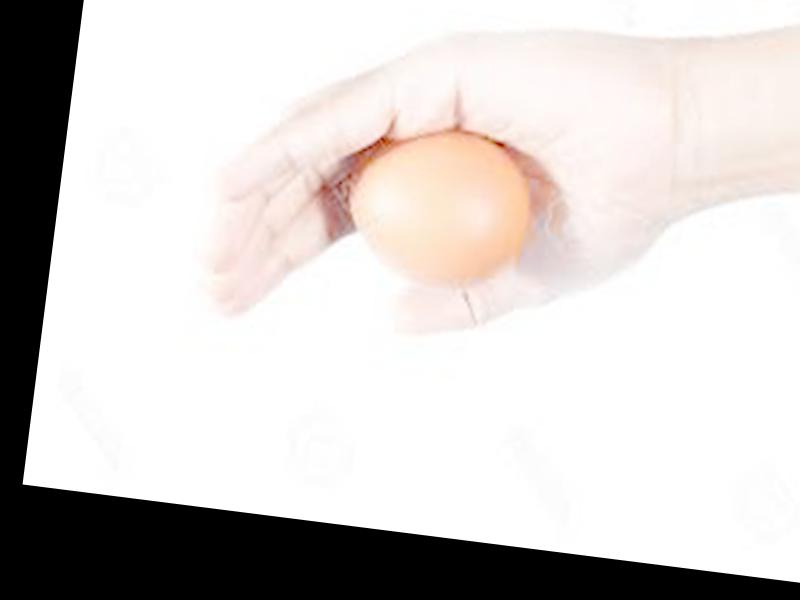Eggs: (342, 123, 537, 295)
